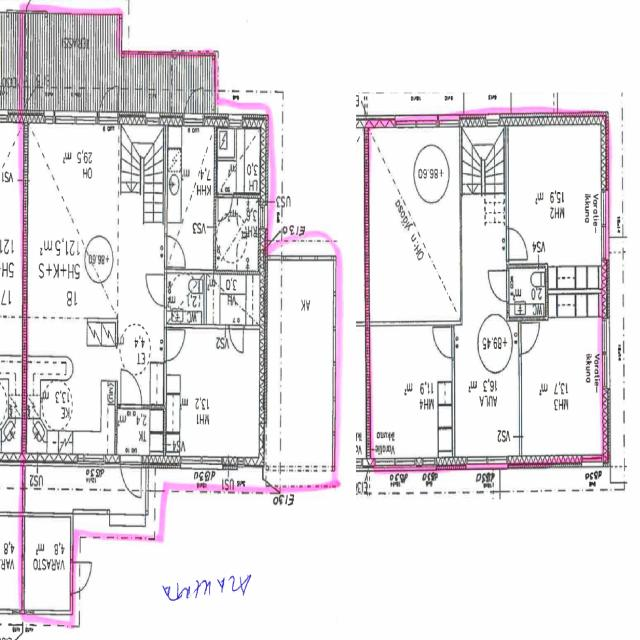door: (120, 454, 141, 503), (183, 80, 204, 125), (99, 81, 119, 125), (194, 232, 218, 268), (163, 236, 186, 268), (506, 228, 528, 261), (432, 326, 454, 358), (487, 269, 509, 300), (518, 322, 540, 353), (163, 329, 184, 360), (145, 276, 166, 306), (70, 562, 90, 592), (229, 322, 244, 352), (218, 192, 233, 221)
